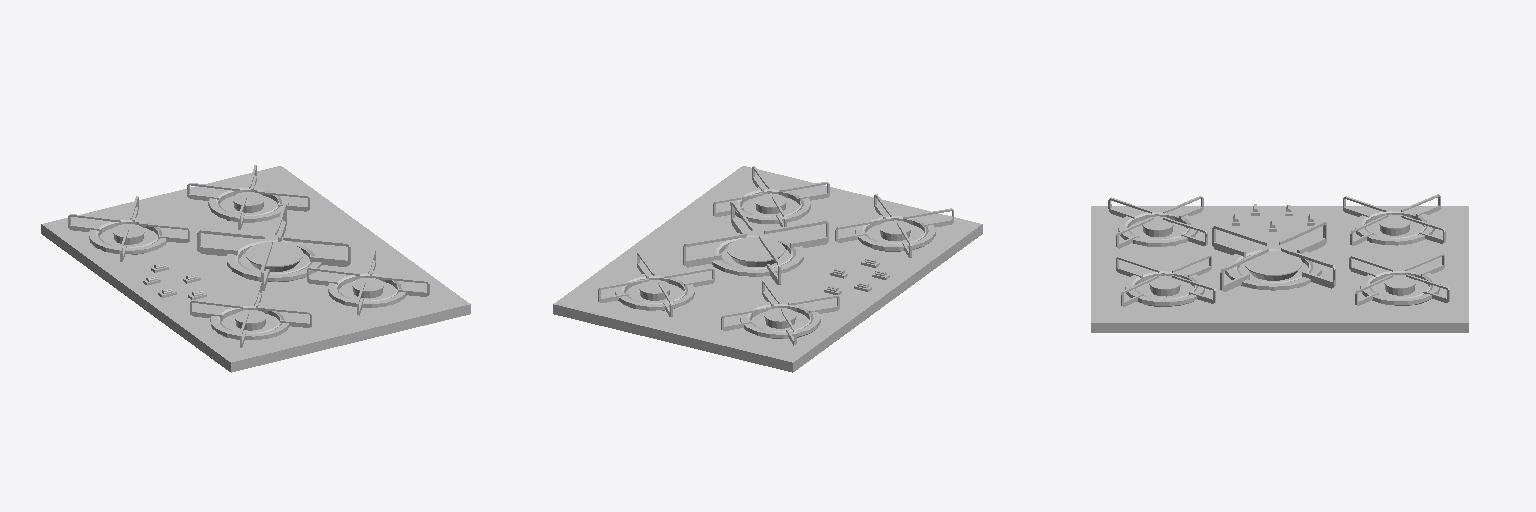
The model's file is fogão_OBJ.obj.
3 views of the same model, side by side, from view 1: azimuth 30°, elevation 25°; view 2: azimuth 150°, elevation 25°; view 3: azimuth 270°, elevation 25° (orthographic).
Parts seen in each view (by area): view 1: Box001, Box011, Cylinder009, Cylinder007, Cylinder004, Cylinder005, Cylinder006, Box012, Cylinder014; view 2: Box001, Box011, Cylinder009, Cylinder004, Cylinder007, Cylinder006, Box012, Cylinder005, Cylinder014; view 3: Box001, Box011, Box012, Cylinder009, Cylinder005, Cylinder006, Cylinder004, Cylinder007, Cylinder014.
Boxes of the visible parts, x1,y1,x2,y2 form: Box001: [41, 166, 470, 372]; Box011: [68, 165, 429, 347]; Cylinder009: [227, 237, 322, 281]; Cylinder007: [89, 217, 168, 254]; Cylinder004: [210, 303, 290, 339]; Cylinder005: [328, 271, 407, 307]; Cylinder006: [208, 185, 288, 222]; Box012: [197, 205, 350, 290]; Cylinder014: [246, 242, 302, 266]; Box001: [553, 166, 982, 372]; Box011: [598, 166, 953, 345]; Cylinder009: [708, 232, 803, 276]; Cylinder004: [855, 213, 935, 251]; Cylinder007: [740, 301, 820, 338]; Cylinder006: [615, 273, 694, 310]; Box012: [683, 201, 828, 284]; Cylinder005: [730, 186, 810, 223]; Cylinder014: [727, 237, 784, 261]; Box001: [1091, 206, 1468, 332]; Box011: [1108, 194, 1449, 306]; Box012: [1212, 221, 1335, 291]; Cylinder009: [1225, 246, 1321, 290]; Cylinder005: [1125, 268, 1204, 306]; Cylinder006: [1360, 268, 1440, 305]; Cylinder004: [1118, 209, 1197, 246]; Cylinder007: [1355, 208, 1434, 245]; Cylinder014: [1245, 250, 1301, 275].
Size of the model in its own units: 52.17 by 7.55 by 71.41.